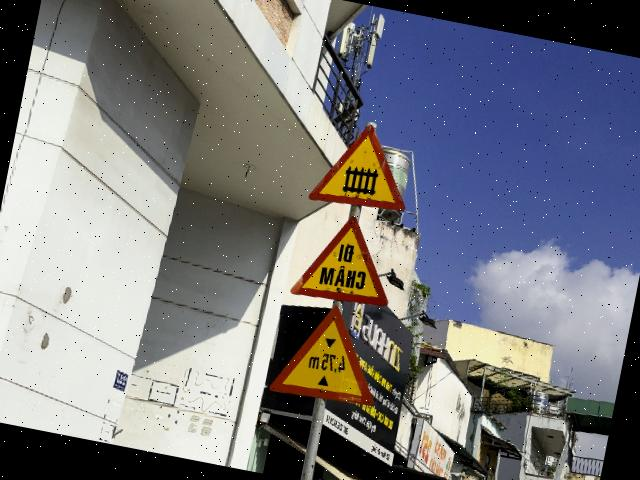chieu-cao-tinh-khong-thuc-te: (268, 296, 392, 410)
di-cham: (288, 206, 403, 312)
noi-giao-nhau-voi-duong-sat-co-rao-chan: (306, 114, 419, 218)
